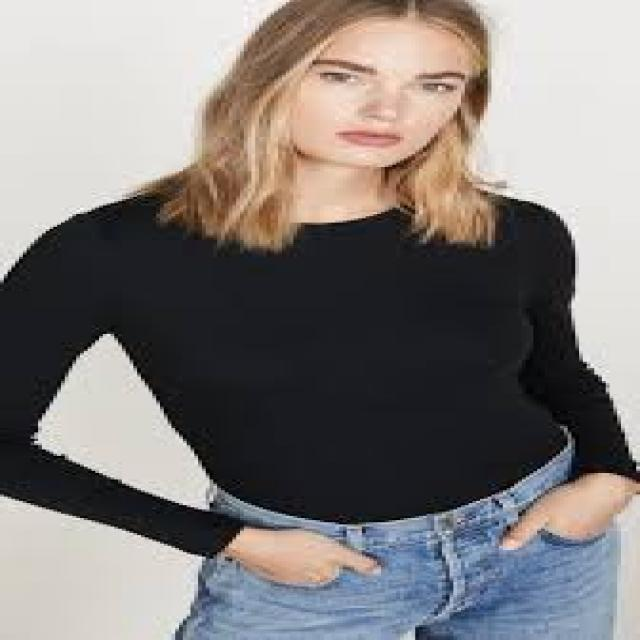plain: (13, 177, 640, 537)
